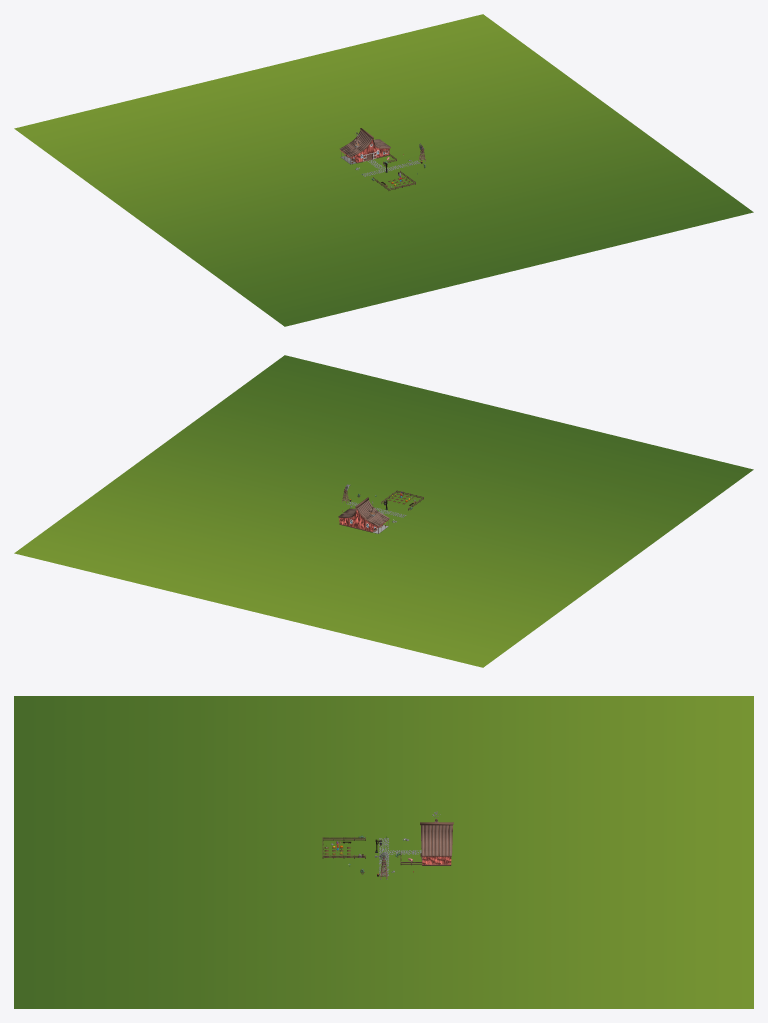
3 renders of one model, top to bottom at view 1: azimuth 30°, elevation 25°; view 2: azimuth 150°, elevation 25°; view 3: azimuth 270°, elevation 25°, orthographic. The views are drawn at different scales.
Parts seen in each view (by area): view 1: Plane, Cube.014_0; view 2: Plane, Cube.014_0; view 3: Plane, Cube.014_0.
Boxes of the visible parts, x1=… form: Plane: x1=14, y1=14, x2=753, y2=326; Cube.014_0: x1=339, y1=128, x2=390, y2=164; Plane: x1=14, y1=355, x2=753, y2=667; Cube.014_0: x1=338, y1=497, x2=389, y2=533; Plane: x1=14, y1=696, x2=753, y2=1008; Cube.014_0: x1=420, y1=811, x2=453, y2=865.
Size of what is drawn, in the model's own units: 200 by 10.98 by 200.
Materials: 66 (65 with a texture image).
